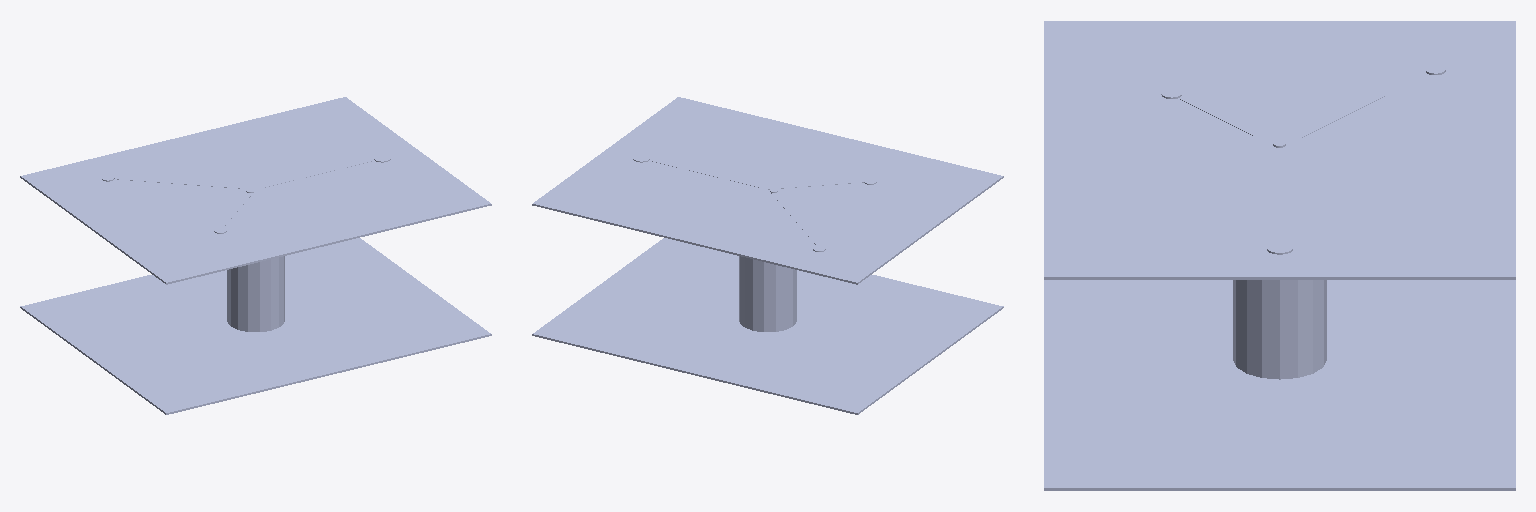
robot.urdf — table_harness_urdf_v3:
<?xml version="1.0"?>
<!-- This URDF was automatically created by SolidWorks to URDF Exporter! Originally created by Stephen Brawner (brawner@gmail.com) 
     Commit Version: v1.6.1-dev1-4-g75b5c6a  Build Version: 1.6.9609.37988
     For more information, please see http://wiki.ros.org/sw_urdf_exporter -->
<robot
  name="table_harness_urdf_v3">
  <link
    name="table_base_link">
    <inertial>
      <origin
        xyz="2.3567E-05 8.5912E-06 0.1751"
        rpy="0 0 0" />
      <mass
        value="11.54" />
      <inertia
        ixx="0.50144"
        ixy="-1.804E-05"
        ixz="7.2205E-06"
        iyy="0.66933"
        iyz="8.752E-06"
        izz="0.69513" />
    </inertial>
    <visual>
      <origin
        xyz="0 -0.9 0"
        rpy="1.57079632679 0 3.14159265359" />
      <geometry>
        <mesh
          filename="package://table_harness_urdf_v3/meshes/table_base_link.STL" />
      </geometry>
      <material
        name="">
        <color
          rgba="0.79216 0.81961 0.93333 1" />
      </material>
    </visual>
    <collision>
      <origin
        xyz="0 -0.9 0"
        rpy="1.57079632679 0 3.14159265359" />
      <geometry>
        <mesh
          filename="package://table_harness_urdf_v3/meshes/table_base_link.STL" />
      </geometry>
    </collision>
  </link>
  <link
    name="m1_target_link" />
  <joint
    name="m1_fixed_joint"
    type="fixed">
    <origin
      xyz="-0.27578 0.2314 0.3525"
      rpy="0 0 0" />
    <parent
      link="table_base_link" />
    <child
      link="m1_target_link" />
    <axis
      xyz="0 0 0" />
  </joint>
  <link
    name="m2_target_link" />
  <joint
    name="m2_fixed_joint"
    type="fixed">
    <origin
      xyz="-0.191511110779744 -0.160696902421635 0.3525"
      rpy="0 0 0" />
    <parent
      link="table_base_link" />
    <child
      link="m2_target_link" />
    <axis
      xyz="0 0 0" />
  </joint>
  <link
    name="s1_target_link" />
  <joint
    name="s1_fixed_joint"
    type="fixed">
    <origin
      xyz="-0.0162000258782906 -0.000766044443119007 0.3525"
      rpy="0 0 0" />
    <parent
      link="table_base_link" />
    <child
      link="s1_target_link" />
    <axis
      xyz="0 0 0" />
  </joint>
  <link
    name="l1_target_link" />
  <joint
    name="l1_fixed_joint"
    type="fixed">
    <origin
      xyz="0.35 0 0.3525"
      rpy="0 0 0" />
    <parent
      link="table_base_link" />
    <child
      link="l1_target_link" />
    <axis
      xyz="0 0 0" />
  </joint>
    <gazebo>
    <static>true</static>
  </gazebo>
</robot>

--- Facts derived from the render (not from the file) ---
Views: 3 orthographic renders of the robot side by side, from view 1: azimuth 30°, elevation 25°; view 2: azimuth 150°, elevation 25°; view 3: azimuth 270°, elevation 25°.
Model table_harness_urdf_v3 with 5 links and 4 joints (4 fixed), rooted at table_base_link, posed every joint at zero.
Links seen in each view (by area): view 1: table_base_link; view 2: table_base_link; view 3: table_base_link.
Link boxes in pixels (left/top/right/bottom): table_base_link: left=20, top=97, right=491, bottom=414; table_base_link: left=532, top=97, right=1003, bottom=414; table_base_link: left=1044, top=21, right=1515, bottom=490.
Bounding box of the posed robot: 0.9 × 0.7 × 0.3525 m (x, y, z).
Meshes: 1 distinct files referenced, 1 mesh visuals loaded (1 binary STL).
